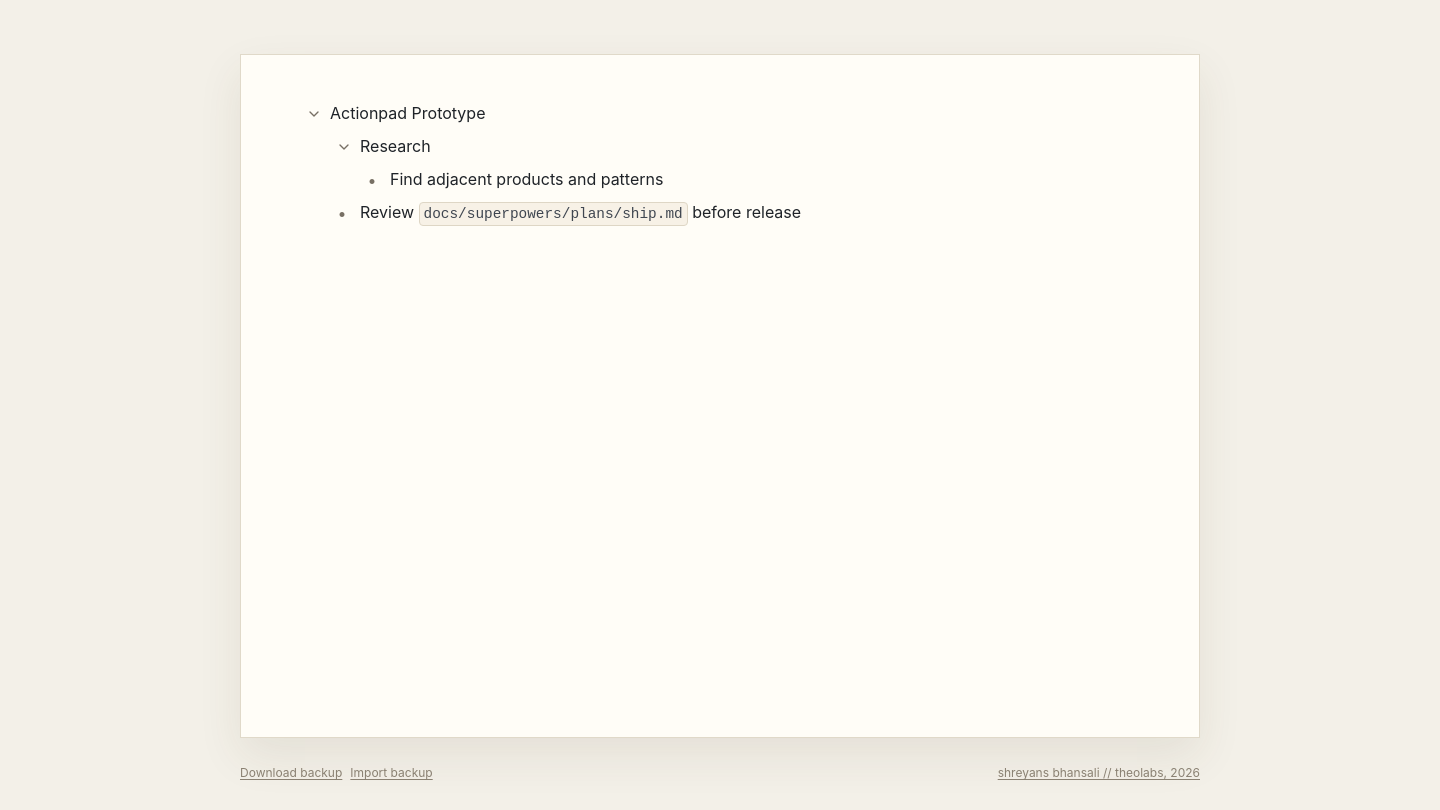
Test: clicking an inline markdown file path opens the side panel document viewer
Click the button with aria-label "open docs/superpowers/plans/ship.md" at x=553, y=214, box 419,202 -> 688,226
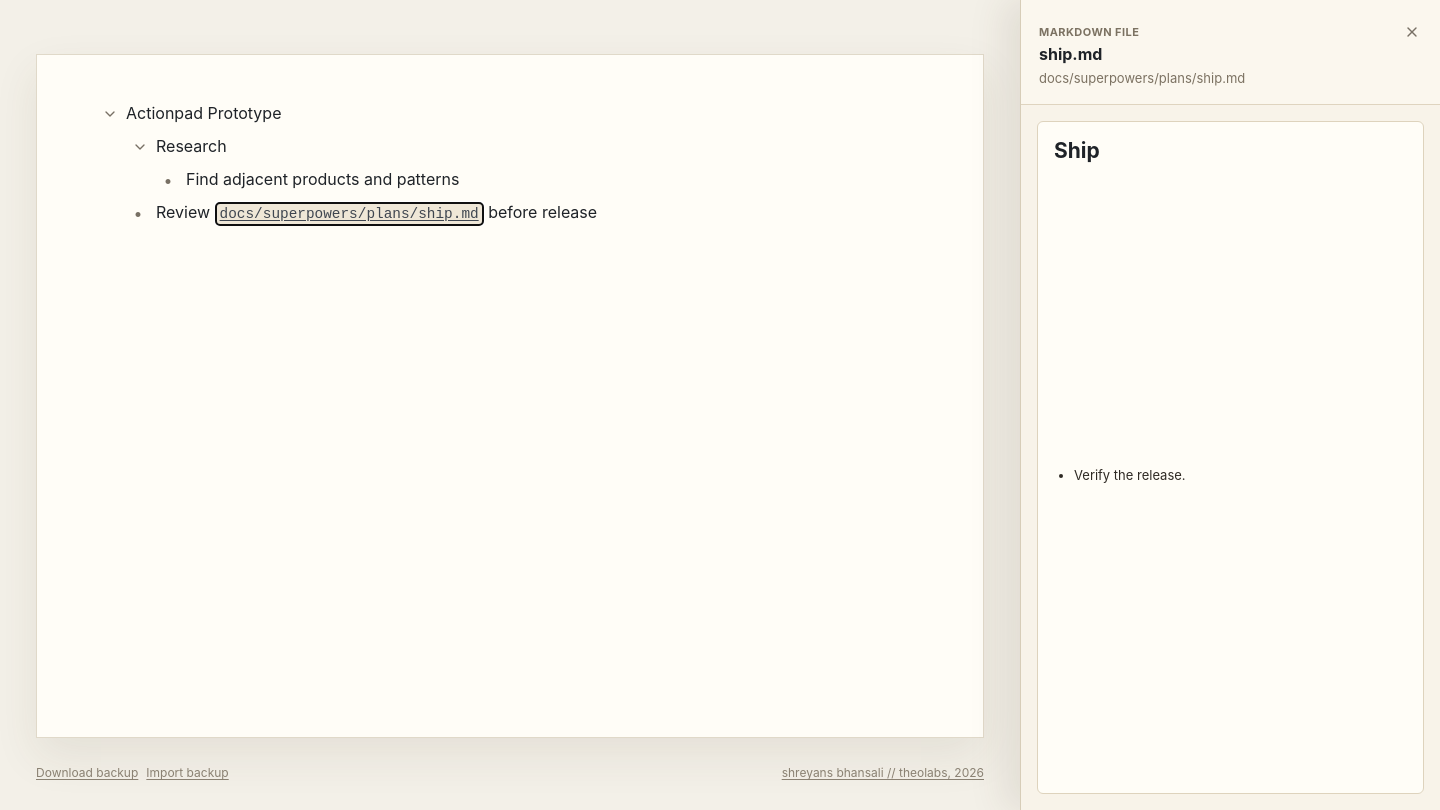
Now the heading "ship.md" is shown, box 1039,44 -> 1102,64
Now the heading "Ship" is shown, box 1054,138 -> 1100,163
Now the list item "Verify the release." is shown, box 1074,467 -> 1186,483
